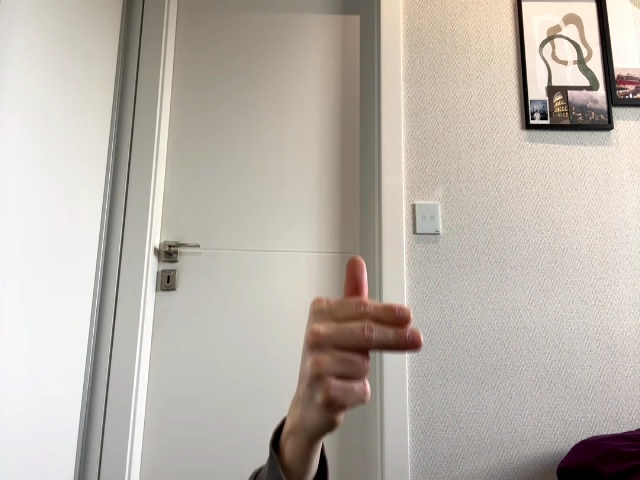N: (302, 256, 422, 413)
